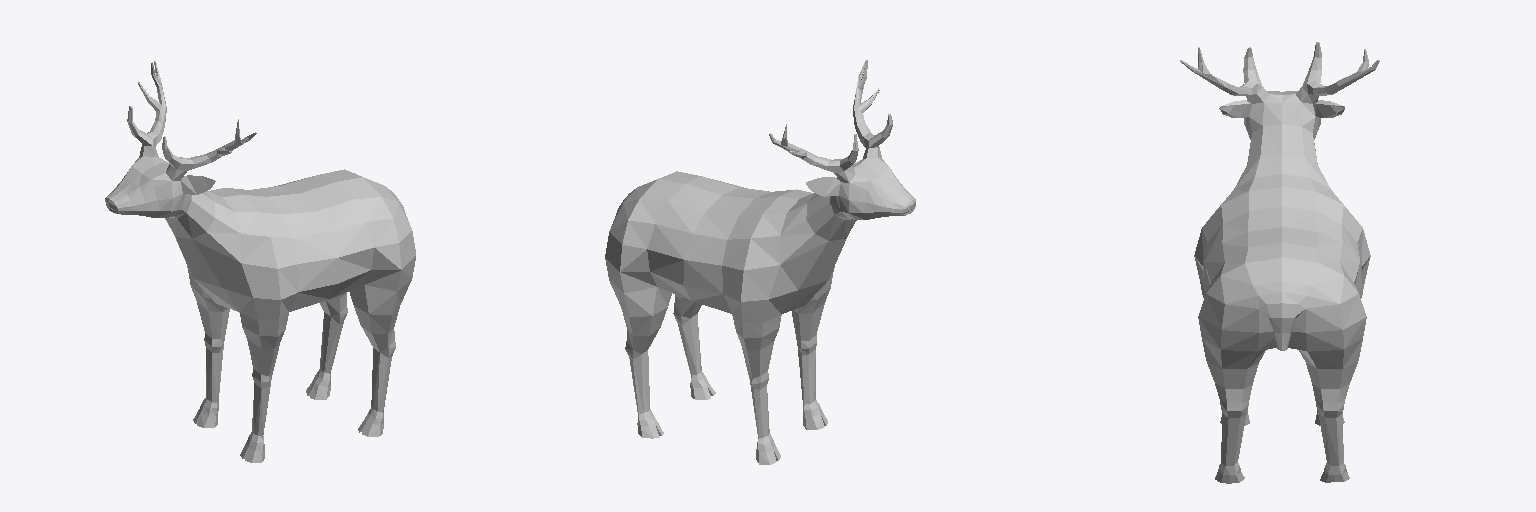
File: deera.obj
The picture shows the model from 3 angles: view 1: azimuth 30°, elevation 25°; view 2: azimuth 150°, elevation 25°; view 3: azimuth 270°, elevation 25°; orthographic projection.
Parts seen in each view (by area): view 1: deer:deer___UN; view 2: deer:deer___UN; view 3: deer:deer___UN.
Part boxes in pixels (bbox=[...]): deer:deer___UN: bbox=[105, 61, 415, 462]; deer:deer___UN: bbox=[605, 60, 915, 464]; deer:deer___UN: bbox=[1180, 42, 1379, 483].
Size of the model in its own units: 4.11 by 4.84 by 2.44.